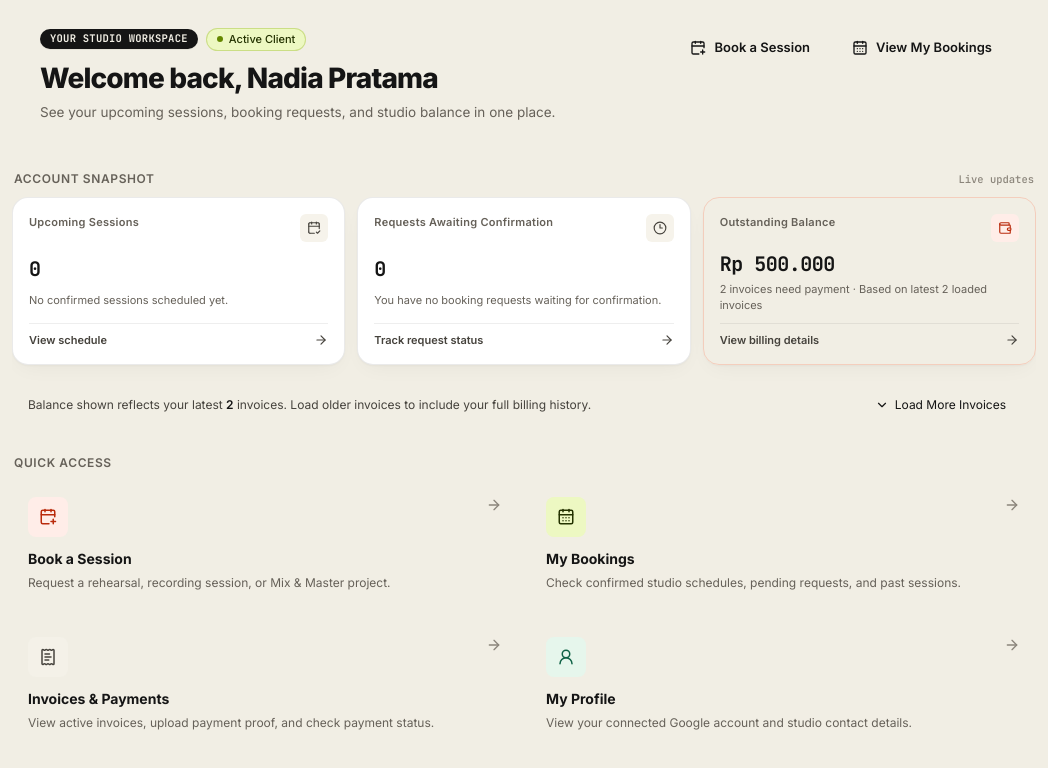
Test: Client Portal Overview — Account Snapshot, Real Billing, Next Session, Activity & Navigation › communicates truncated invoice totals honestly and allows loading more invoices cleanly
Expected: the text "Rp 500.000" is shown, [720,251,835,277]
Expected: the text "2 invoices need payment · Based on latest 2 loaded invoices" is shown, [720,282,1019,313]
Click the button "Load More Invoices" at (940, 405), box [861,387,1020,423]
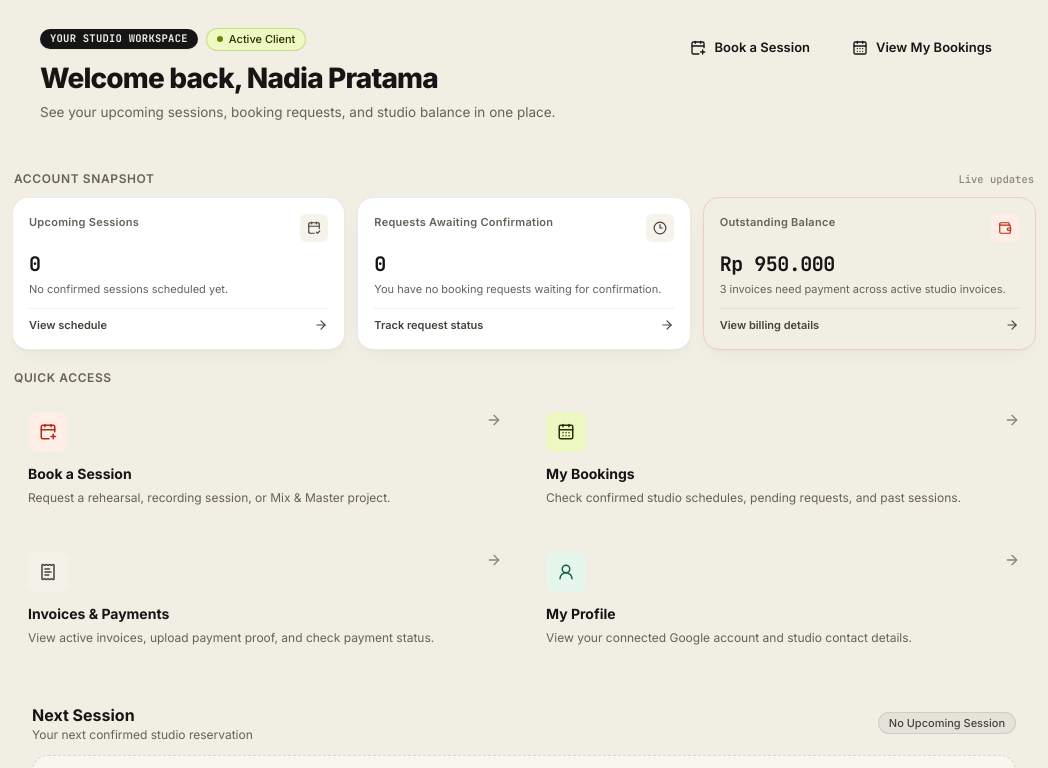
Result: the text "Rp 950.000" is shown at [720,251,835,277]
Result: the element with test id "client-overview-billing-truncation-notice" is gone
